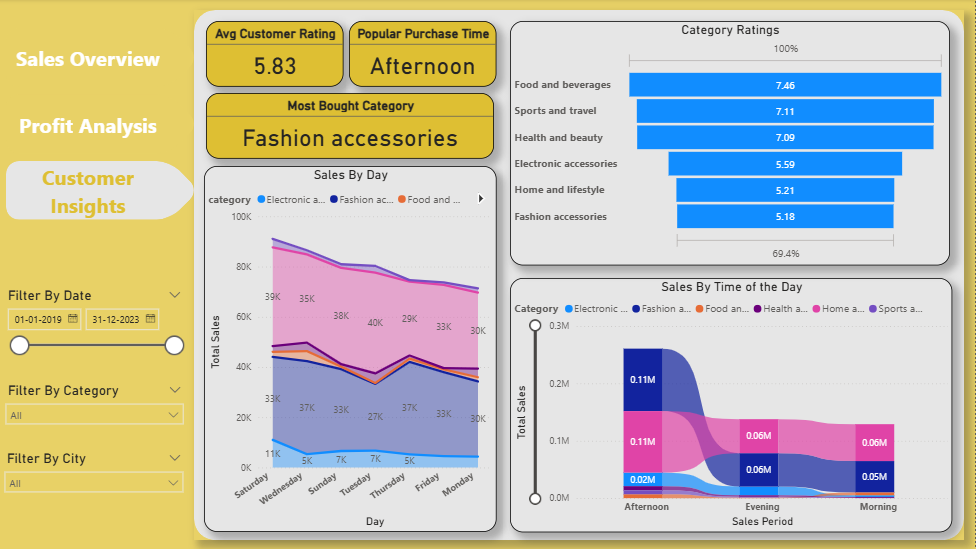

What the dashboard file says about the page in this screenshot:
{"tool":"powerbi","page":{"name":"Customer Insights","canvas":[1280,720],"ordinal":2},"visuals":[{"type":"shape","box":[256.3,14.4,1008,694.1],"z":0},{"type":"card","title":"Avg Customer Rating","fields":{"Values":["Avg(walmart_db walmart_pro.rating)"]},"box":[271.7,28.6,180,85.8],"z":1000},{"type":"card","title":"Popular Purchase Time","fields":{"Values":["Min(walmart_db walmart_pro.sales_period)"]},"box":[459.4,28.6,193,85.8],"z":2000},{"type":"card","title":"Most Bought Category","fields":{"Values":["Min(walmart_db walmart_pro.category)"]},"box":[271.7,123.4,377.2,85.8],"z":3000},{"type":"stackedAreaChart","title":"Sales By Day","fields":{"Y":["Sum(walmart_db walmart_pro.total_sales)"],"Category":["walmart_db walmart_pro.day_name"],"Series":["walmart_db walmart_pro.category"]},"box":[269.9,218.1,382.6,479.1],"z":4000},{"type":"ribbonChart","title":"Sales By Time of the Day","fields":{"Y":["Sum(walmart_db walmart_pro.total_sales)"],"Category":["walmart_db walmart_pro.sales_period"],"Series":["walmart_db walmart_pro.category"]},"box":[670.4,364.7,579.2,332.5],"z":5000},{"type":"pageNavigator","box":[10.7,37.5,253.9,252.1],"z":6000},{"type":"slicer","fields":{"Values":["walmart_db walmart_pro.date"]},"box":[4.3,374.1,246.2,145.4],"z":7000},{"type":"slicer","fields":{"Values":["walmart_db walmart_pro.category"]},"box":[3.6,498.9,246.7,75.1],"z":8000},{"type":"funnel","title":"Category Ratings","fields":{"Category":["walmart_db walmart_pro.category"],"Y":["Avg(walmart_db walmart_pro.rating)"]},"box":[670.4,28.6,575.6,320],"z":9000},{"type":"slicer","fields":{"Values":["walmart_db walmart_pro.City"]},"box":[2.9,587.5,247.7,76.3],"z":10000}]}

Visuals, with their boxes in screenshot pixels (x1, y1, x2, y2), scaled from the page's 1280x720 canvas onto the 976x549 screenshot:
shape: [195, 11, 964, 540]
"Avg Customer Rating" card: [207, 22, 344, 87]
"Popular Purchase Time" card: [350, 22, 497, 87]
"Most Bought Category" card: [207, 94, 495, 160]
"Sales By Day" stackedAreaChart: [206, 166, 498, 532]
"Sales By Time of the Day" ribbonChart: [511, 278, 953, 532]
pageNavigator: [8, 29, 202, 221]
slicer - walmart_db walmart_pro.date: [3, 285, 191, 396]
slicer - walmart_db walmart_pro.category: [3, 380, 191, 438]
"Category Ratings" funnel: [511, 22, 950, 266]
slicer - walmart_db walmart_pro.City: [2, 448, 191, 506]
